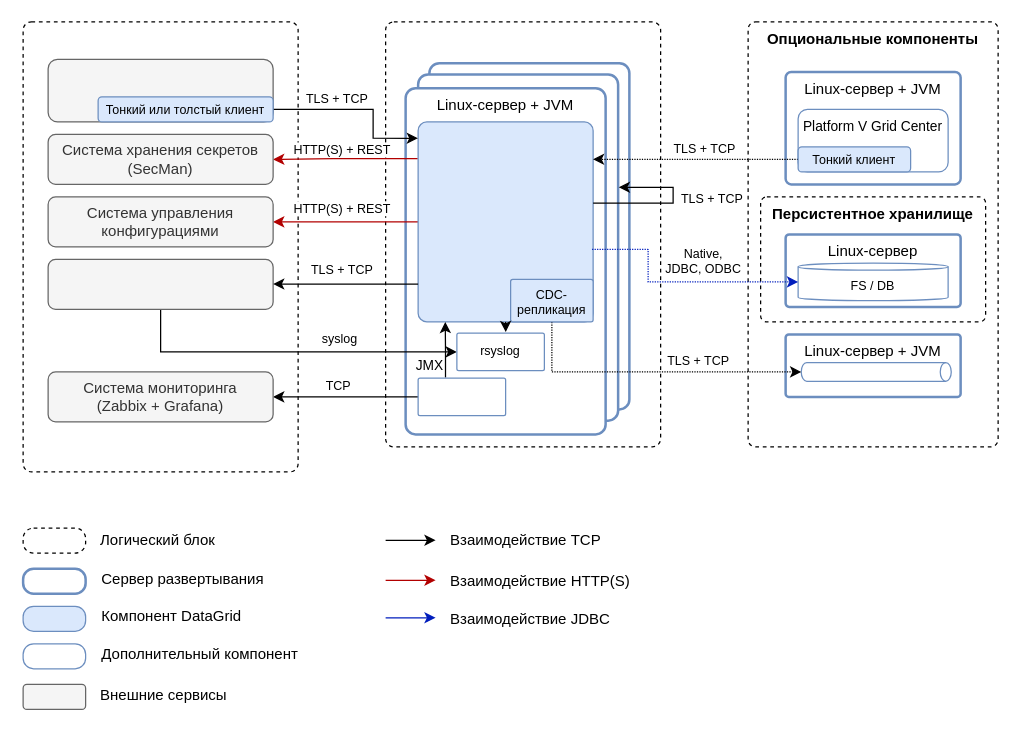
The diagram is 1020 pixels wide and 731 high, and some of its shapes have lost their labels. The shapes that lost their labels are listed below. From the top down, each one's box as (x1, y1, x2, y2) in pixels, then its label:
(47, 58, 273, 122): Приложение-потребитель
(417, 121, 593, 322): Серверный узел DataGrid
(384, 21, 661, 447): Кластер DataGrid
(22, 21, 298, 472): Внешние взаимодействия
(47, 258, 273, 309): Система аудита (ПКБ)
(800, 361, 951, 381): Platform V Corax
(417, 377, 506, 416): Zabbix-agent
